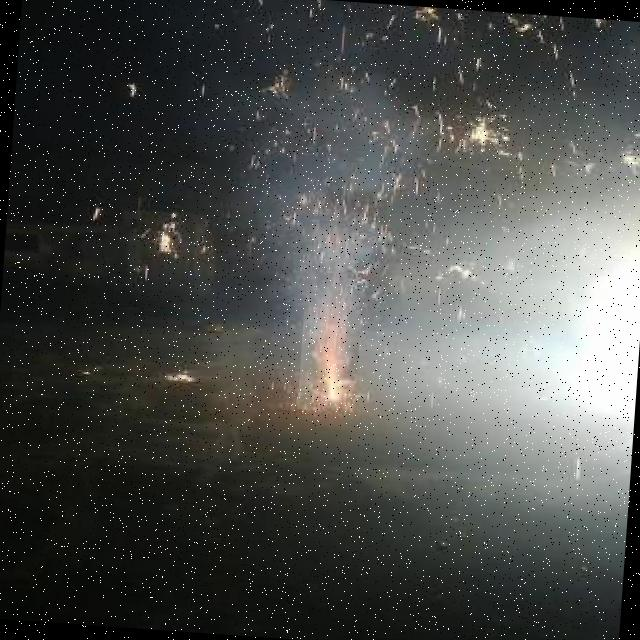fire: (297, 306, 361, 412)
